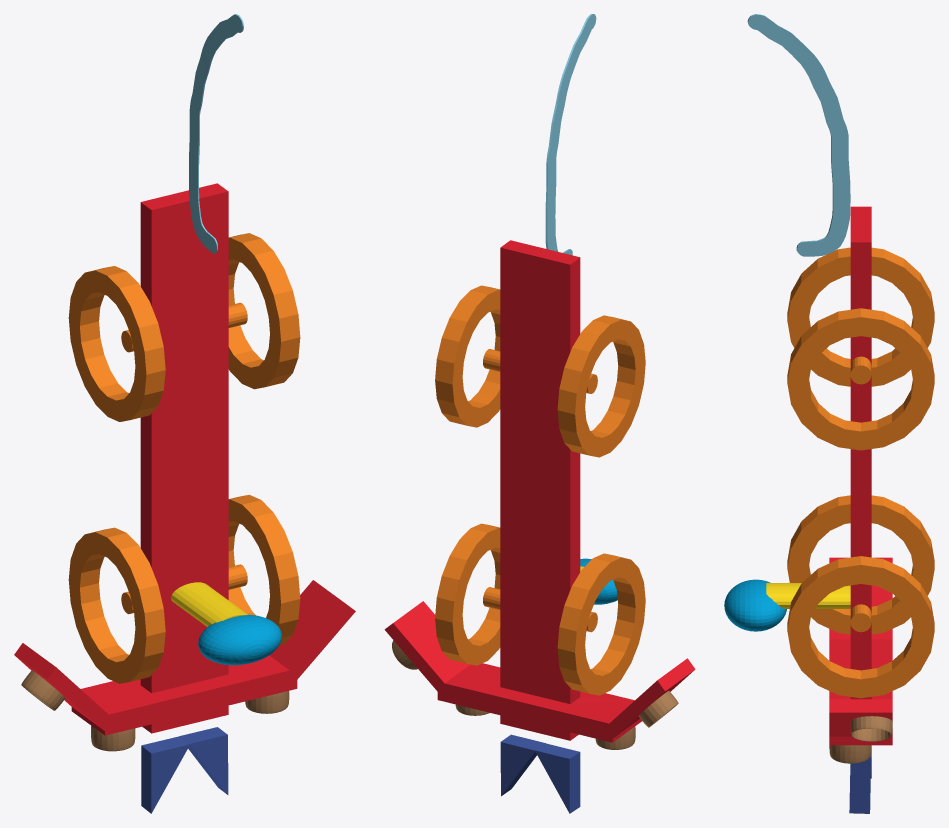
Rendered from tinker.obj.
3 views of the same model, side by side, from view 1: azimuth 30°, elevation 25°; view 2: azimuth 150°, elevation 25°; view 3: azimuth 270°, elevation 25° (orthographic). The views are drawn at different scales.
Parts seen in each view (by area): view 1: group_0_15277357, group_0_16089887, group_0_3888547, group_0_40919, group_0_8768998, group_0_11107152, group_0_16768282; view 2: group_0_15277357, group_0_16089887, group_0_3888547, group_0_8768998, group_0_11107152; view 3: group_0_16089887, group_0_15277357, group_0_8768998, group_0_40919, group_0_11107152, group_0_16768282, group_0_3888547.
Part boxes in pixels (x1,y1,x2,y2): group_0_15277357: (14, 183, 355, 735); group_0_16089887: (68, 233, 300, 683); group_0_3888547: (141, 727, 228, 813); group_0_40919: (198, 614, 281, 665); group_0_8768998: (189, 14, 243, 253); group_0_11107152: (21, 670, 289, 751); group_0_16768282: (171, 582, 247, 626); group_0_15277357: (384, 240, 695, 742); group_0_16089887: (435, 285, 645, 695); group_0_3888547: (500, 734, 580, 813); group_0_8768998: (545, 14, 596, 255); group_0_11107152: (392, 640, 678, 749); group_0_16089887: (787, 247, 934, 698); group_0_15277357: (829, 206, 892, 745); group_0_8768998: (747, 14, 850, 256); group_0_40919: (724, 579, 786, 631); group_0_11107152: (829, 716, 892, 763); group_0_16768282: (766, 583, 850, 608); group_0_3888547: (849, 748, 871, 813).
Size of the model in its own units: 16.05 by 41 by 10.
